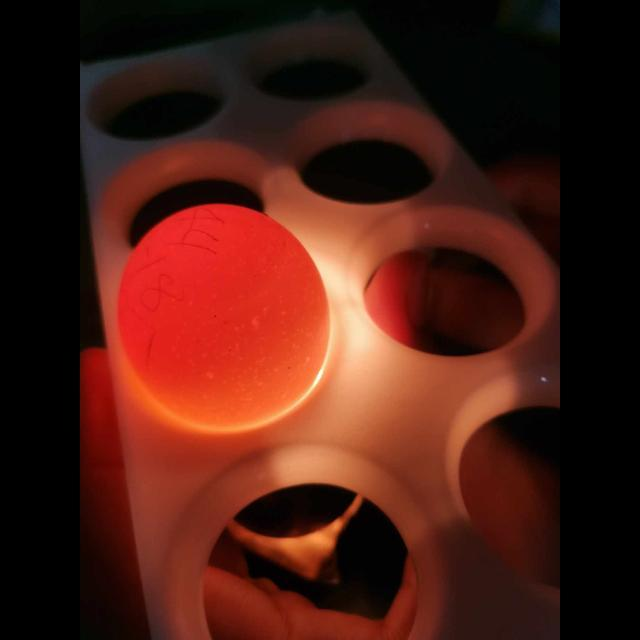Infertile: (118, 203, 328, 424)
